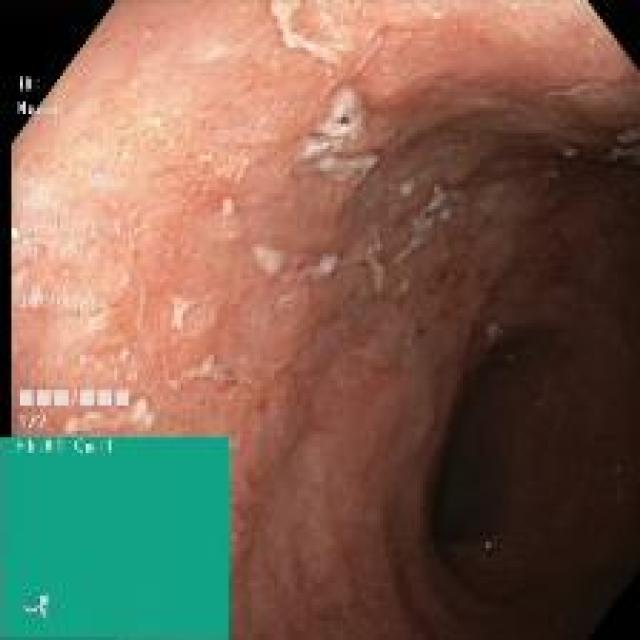ulcerative-colitis-grade-2-3: (12, 3, 640, 640)
